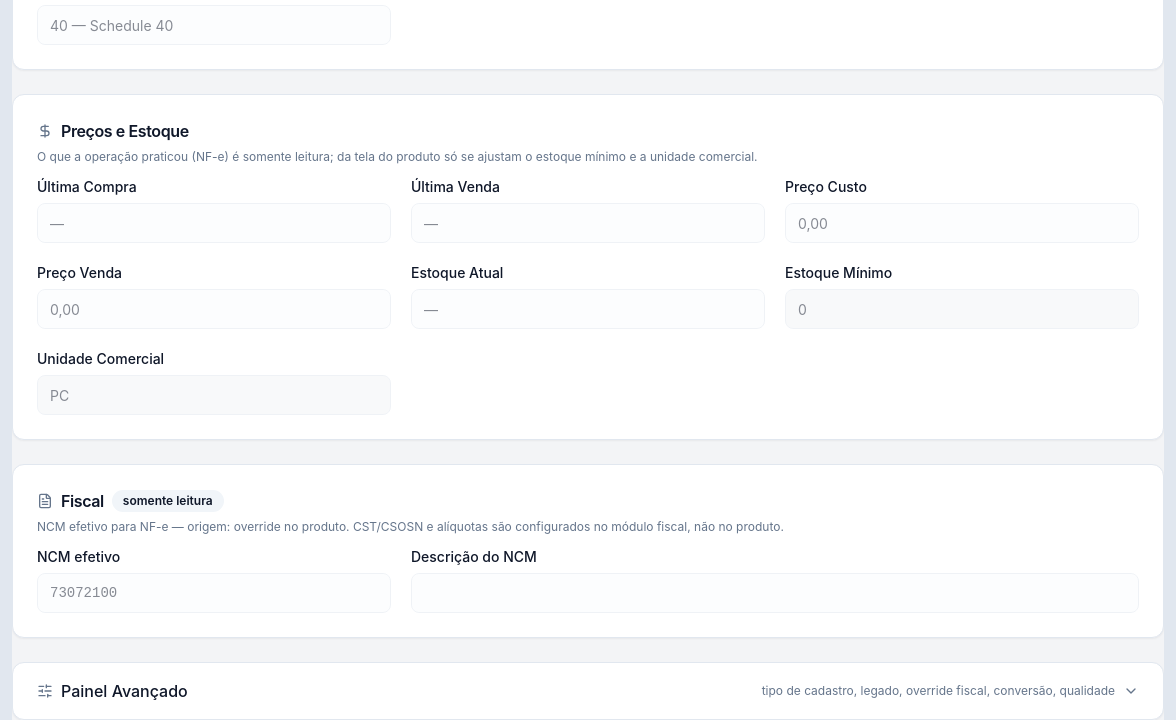
Test: ProdutoWorkspace (espelho da Edição — Sprint 3.7) › esconde os botões de ação dos autocompletes e da Conversão de Medidas
This screenshot has width=1176, height=720.
(page scrolled)
Click the button "Painel Avançado" at (124, 691), box [13,663,1163,719]
(page scrolled)
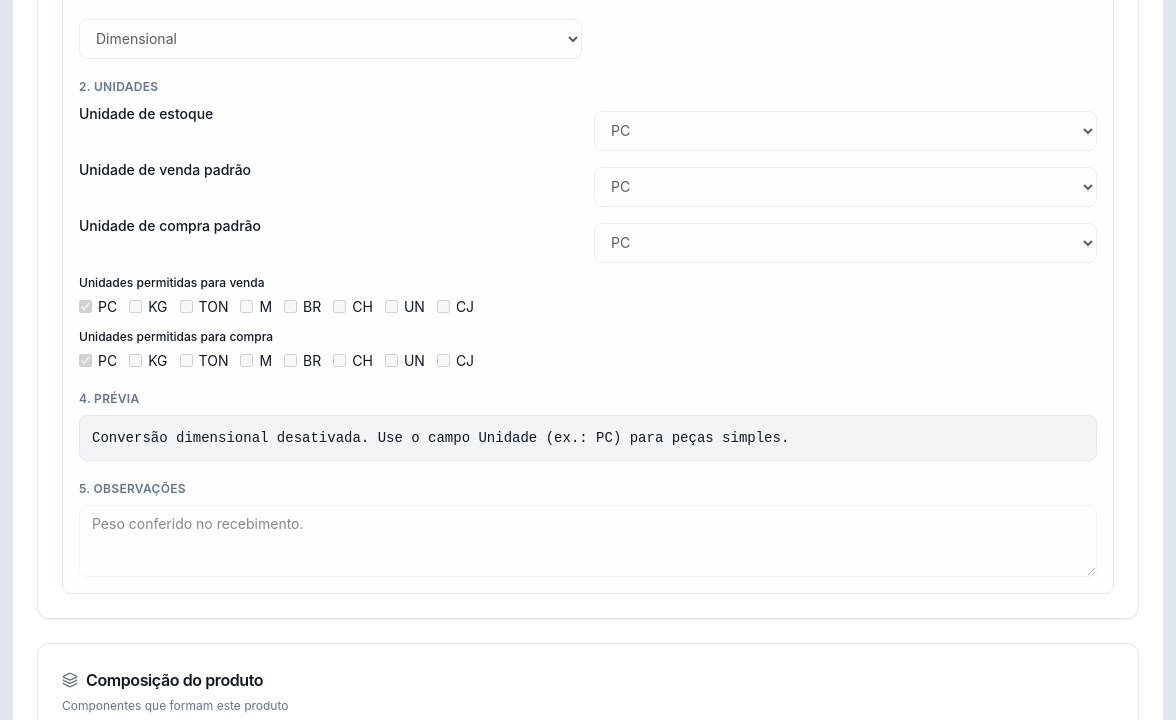
Expected: the checkbox labelled "PC" below "Unidades permitidas para venda" is disabled, [79,300,92,313]
Expected: the checkbox labelled "KG" below "Unidades permitidas para venda" is disabled, [129,300,142,313]
Expected: the checkbox labelled "TON" below "Unidades permitidas para venda" is disabled, [180,300,193,313]
